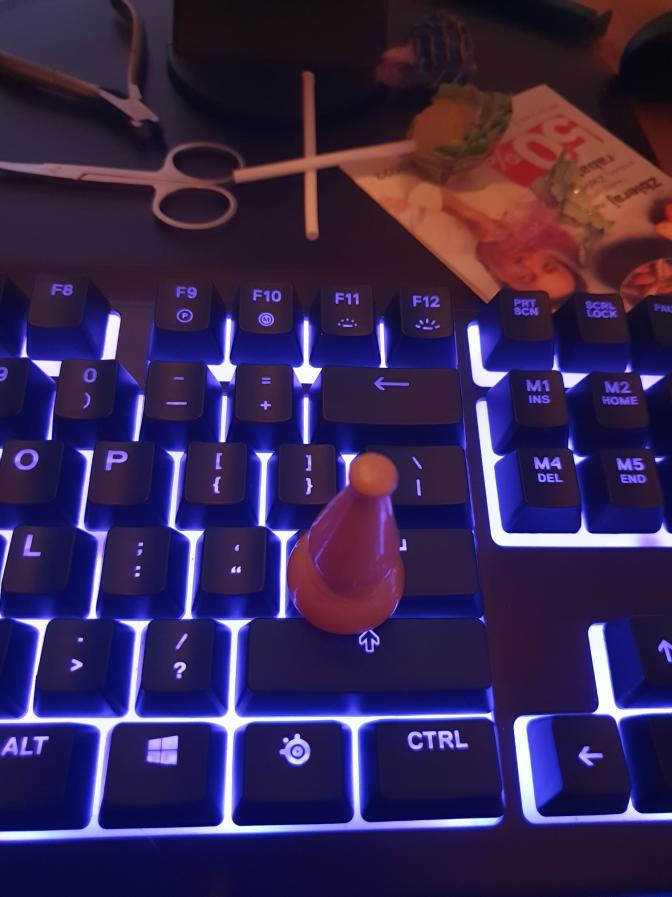wbishop: (286, 452, 405, 635)
